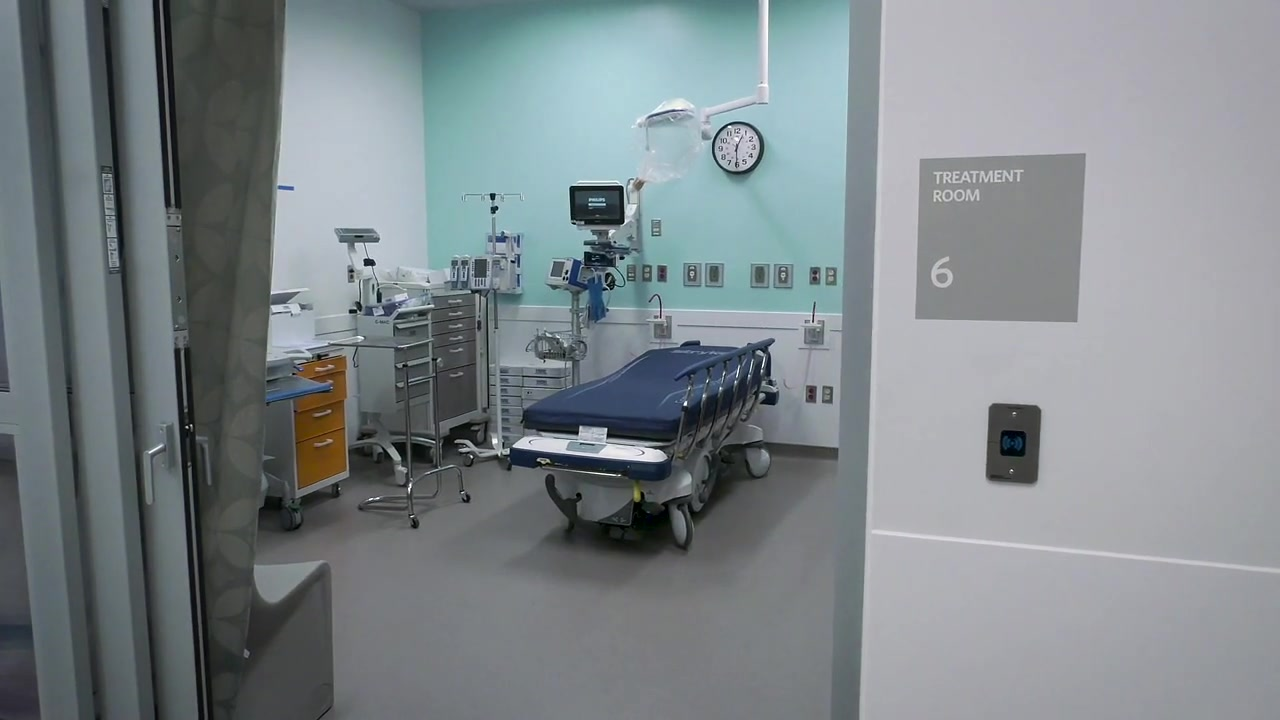bedrail: (668, 338, 777, 464)
bedside_monitor: (569, 187, 624, 226), (548, 259, 571, 289)
curtain: (171, 1, 286, 720)
door_handle: (142, 439, 167, 507), (189, 431, 218, 486)
handle: (311, 408, 332, 418), (312, 438, 333, 448), (314, 364, 336, 373), (449, 371, 464, 378), (447, 298, 463, 304), (448, 335, 463, 341), (449, 347, 463, 353), (447, 311, 463, 316), (448, 323, 463, 328)
infusion_pump: (449, 254, 495, 291)
iv_pole: (454, 191, 526, 472)
medical_drawer: (379, 283, 490, 445), (263, 345, 350, 531), (349, 302, 433, 485)
operating_bed: (509, 337, 780, 548)
surgical_light: (634, 99, 696, 130)
utility_cart: (328, 335, 471, 529)
